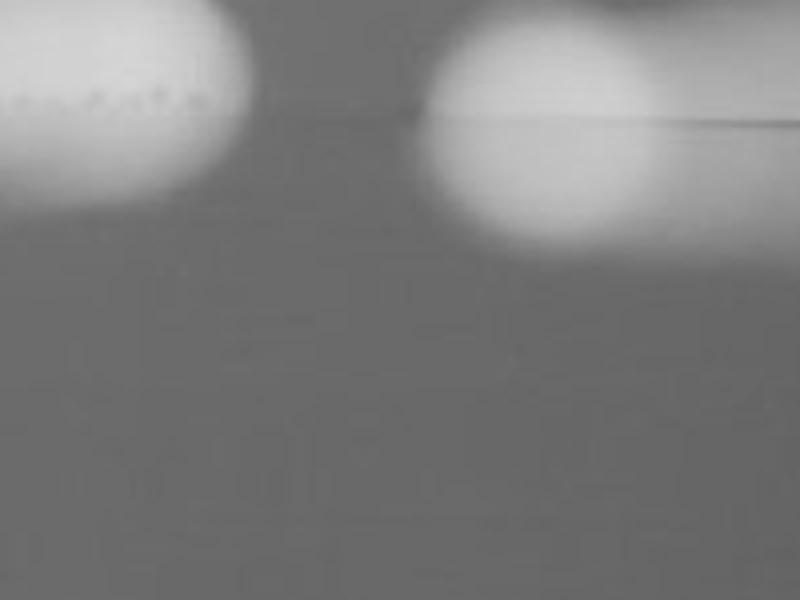defect: (143, 82, 171, 105), (186, 85, 206, 108)
